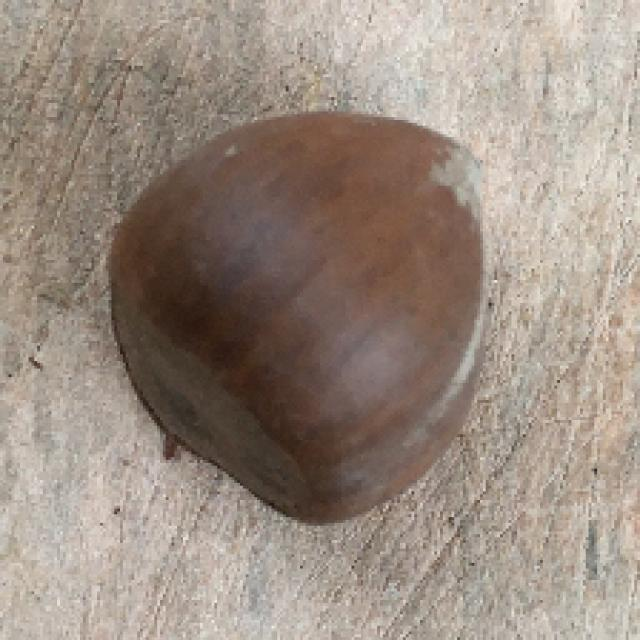damagedHazelnut: (114, 92, 500, 532)
